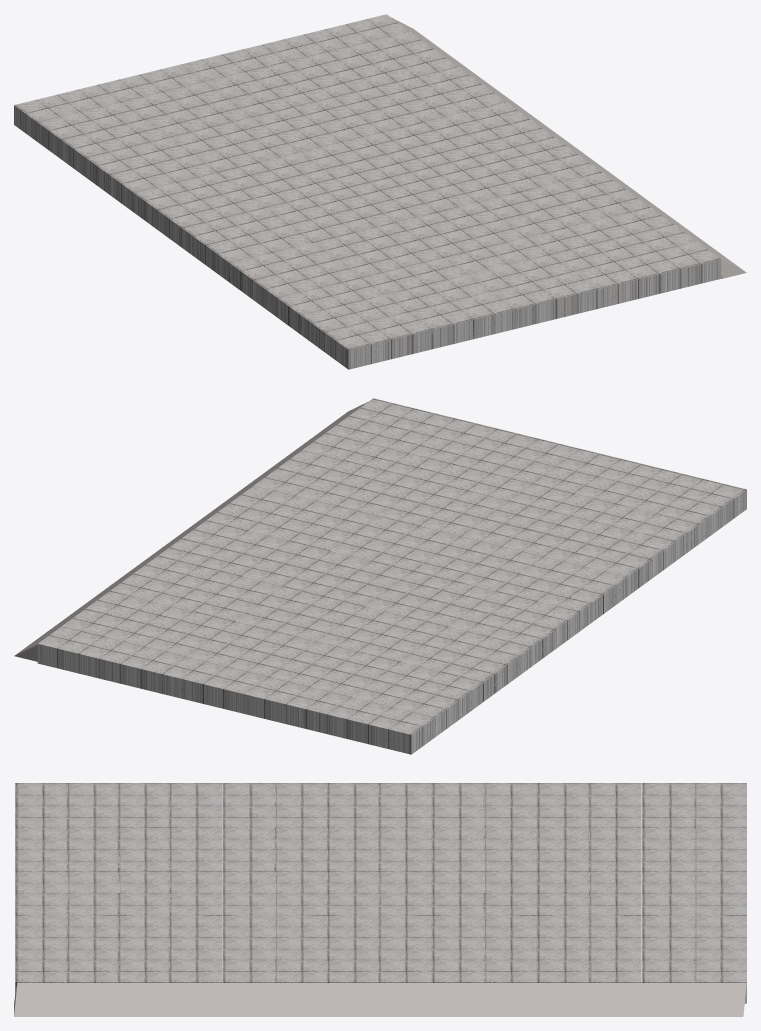
The model's file is Sidewalk.fbx.
The picture shows the model from 3 angles, top to bottom: view 1: azimuth 30°, elevation 25°; view 2: azimuth 150°, elevation 25°; view 3: azimuth 270°, elevation 25°; orthographic projection. The views are drawn at different scales.
Visible parts, largest first — view 1: Plane, Plane.001; view 2: Plane, Plane.001; view 3: Plane, Plane.001.
Part boxes in pixels (left/top/right/bottom): Plane: left=14, top=14, right=721, bottom=369; Plane.001: left=391, top=17, right=746, bottom=278; Plane: left=37, top=398, right=746, bottom=754; Plane.001: left=14, top=402, right=367, bottom=661; Plane: left=15, top=783, right=746, bottom=1003; Plane.001: left=14, top=981, right=746, bottom=1016.
Bounding box in the file's own units: 3747 × 178 × 5464.
2 materials, 1 textured.
